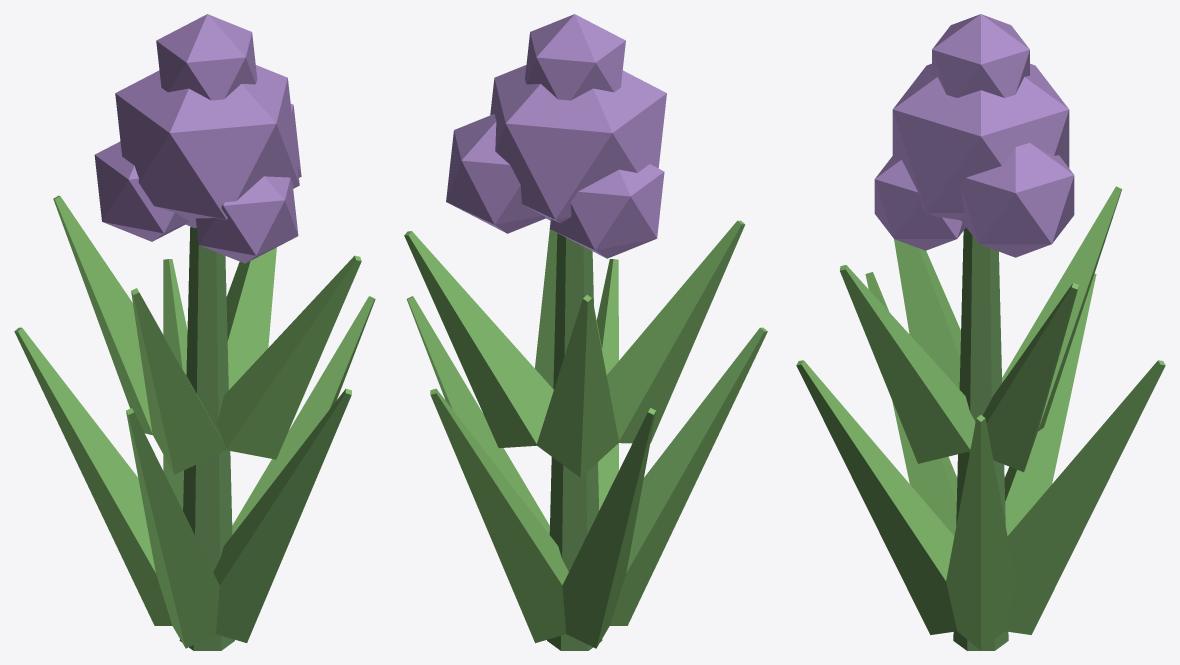
The model's file is plant.glb.
3 renders of one model, left to right at view 1: azimuth 30°, elevation 25°; view 2: azimuth 150°, elevation 25°; view 3: azimuth 270°, elevation 25°, orthographic.
Parts seen in each view (by area): view 1: plant; view 2: plant; view 3: plant.
Part boxes in pixels (x1,y1,x2,y2): plant: (14, 14, 375, 650); plant: (404, 14, 767, 650); plant: (796, 14, 1165, 650).
Bounding box in the file's own units: 1.52 × 3 × 1.6.
